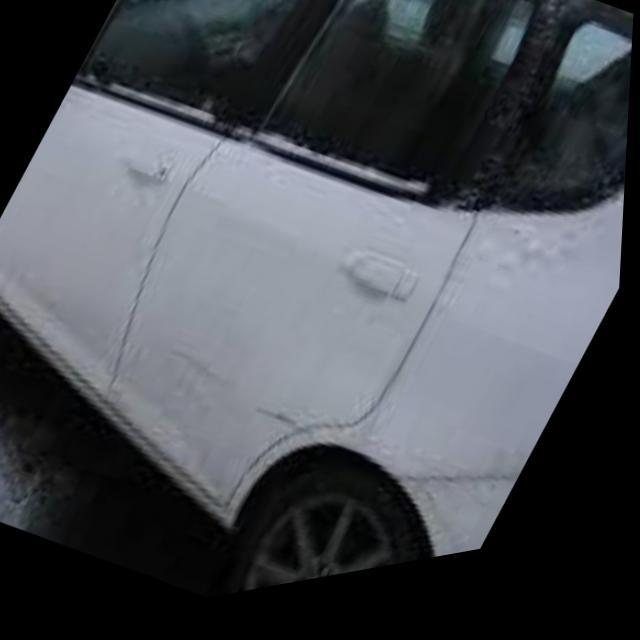scratch: (164, 350, 337, 456)
